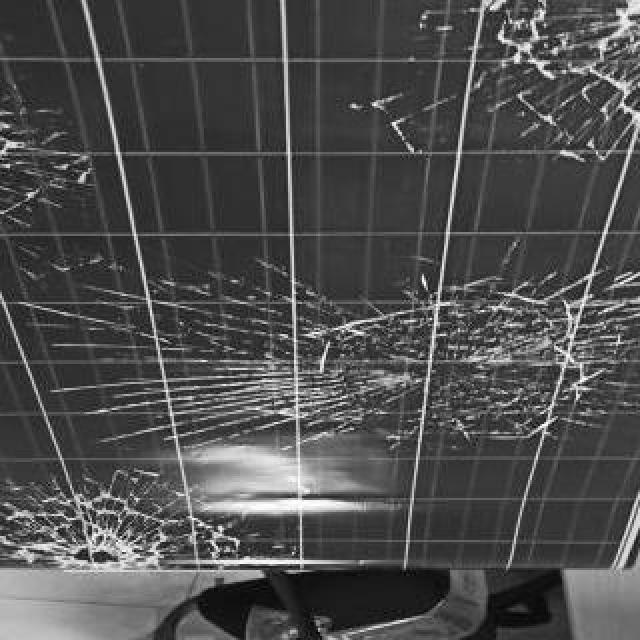Physical-damage: (227, 279, 618, 435), (373, 3, 638, 169), (81, 303, 229, 453), (13, 469, 222, 566), (3, 89, 90, 277)
